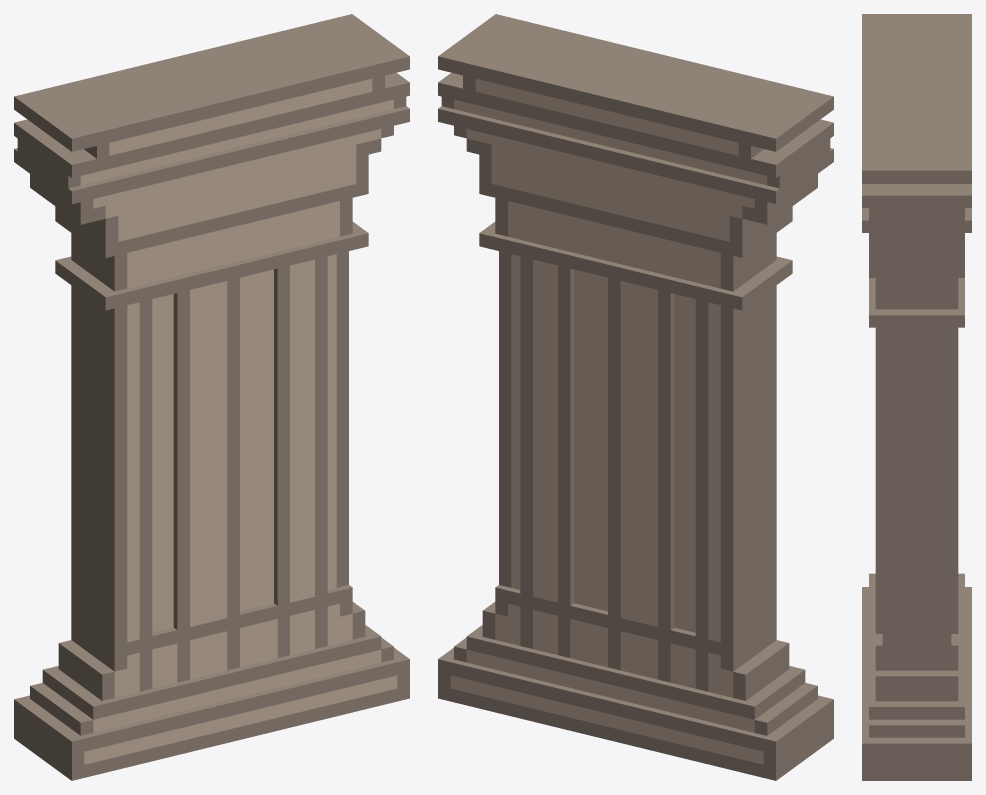
Rendered from DoricPillar.fbx.
3 renders of one model, left to right at view 1: azimuth 30°, elevation 25°; view 2: azimuth 150°, elevation 25°; view 3: azimuth 270°, elevation 25°, orthographic. The views are drawn at different scales.
Parts seen in each view (by area): view 1: generated; view 2: generated; view 3: generated.
Boxes of the visible parts, box(x1,y1,x2,y2) form: generated: box(14, 14, 409, 780); generated: box(438, 14, 833, 780); generated: box(862, 14, 971, 780).
Bounding box in the file's own units: 27 × 49 × 8.
